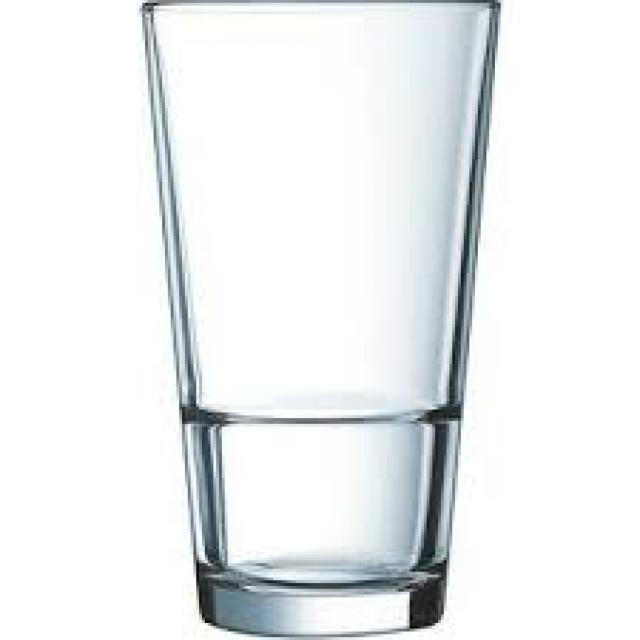glass: (136, 0, 495, 637)
